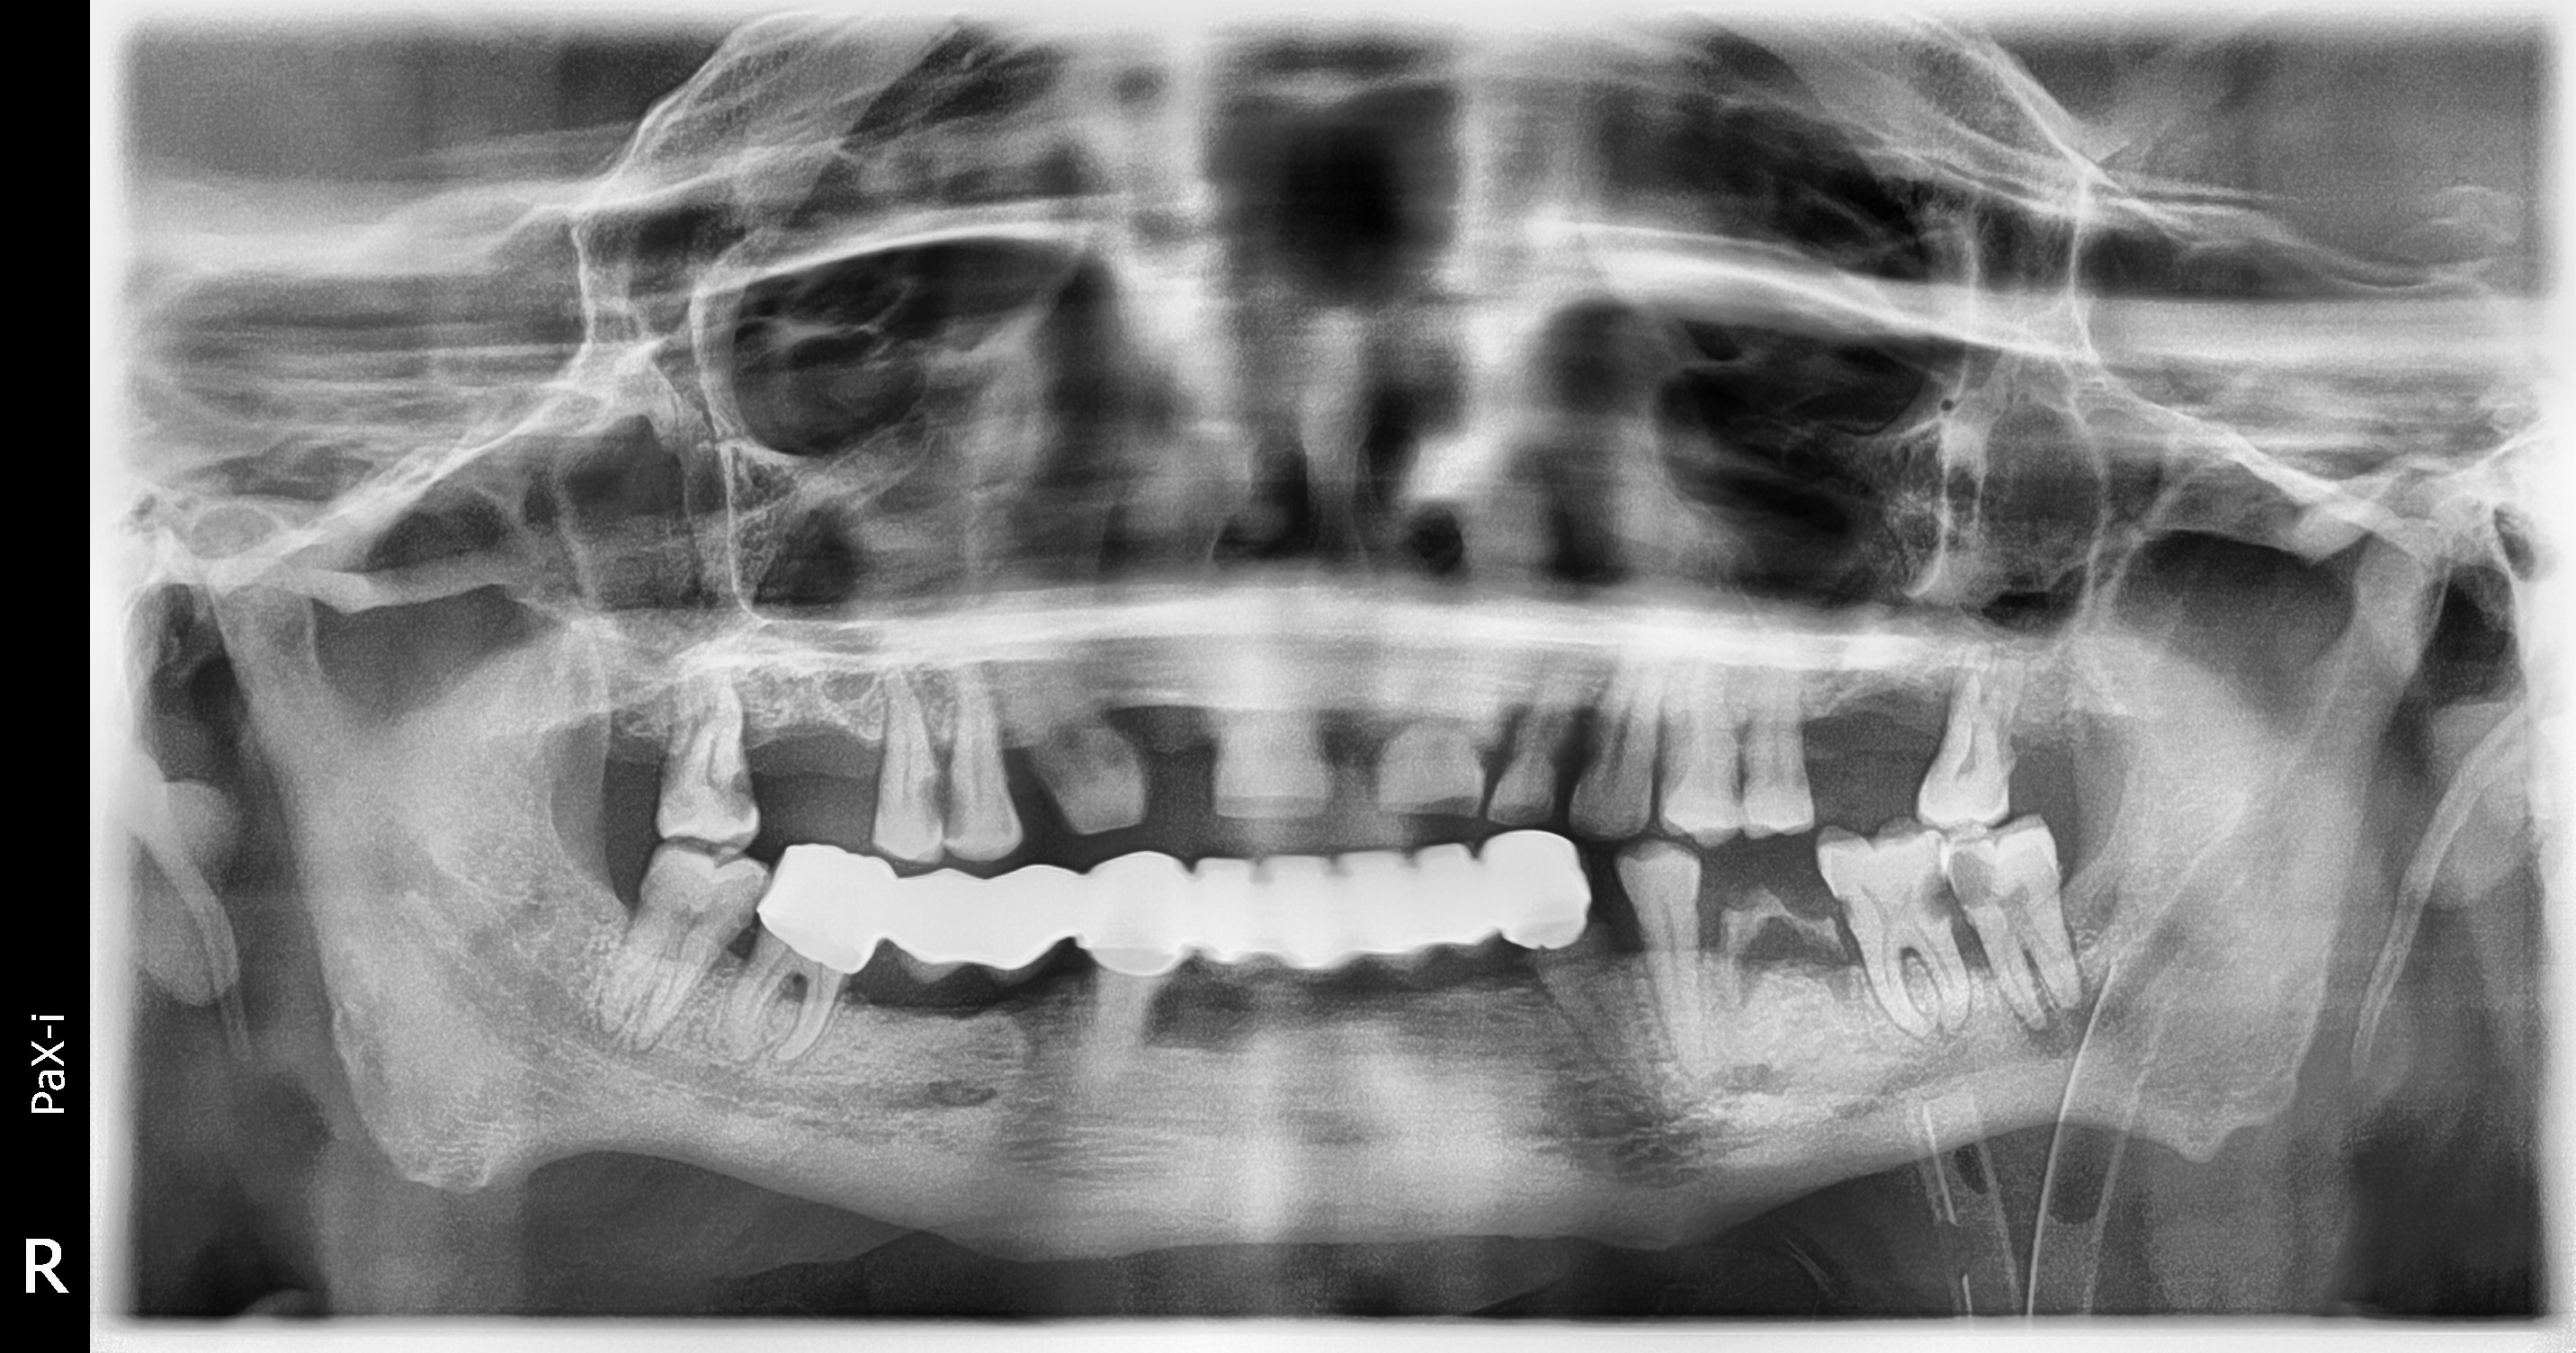API: (2007, 999, 2063, 1072), (2053, 982, 2125, 1034), (1920, 1005, 1978, 1063)
BON: (699, 920, 772, 988), (1949, 915, 1993, 985)
CAR: (1888, 843, 1958, 946), (1930, 826, 2004, 907), (894, 758, 951, 850), (927, 770, 1002, 837), (1579, 872, 1632, 954), (719, 750, 762, 826), (1823, 878, 1862, 934)
FUR: (1998, 917, 2067, 997), (758, 937, 823, 1017), (1883, 927, 1939, 983)
PRR: (746, 809, 1608, 992)
ROT: (1697, 869, 1779, 1016), (1780, 891, 1864, 1029)
